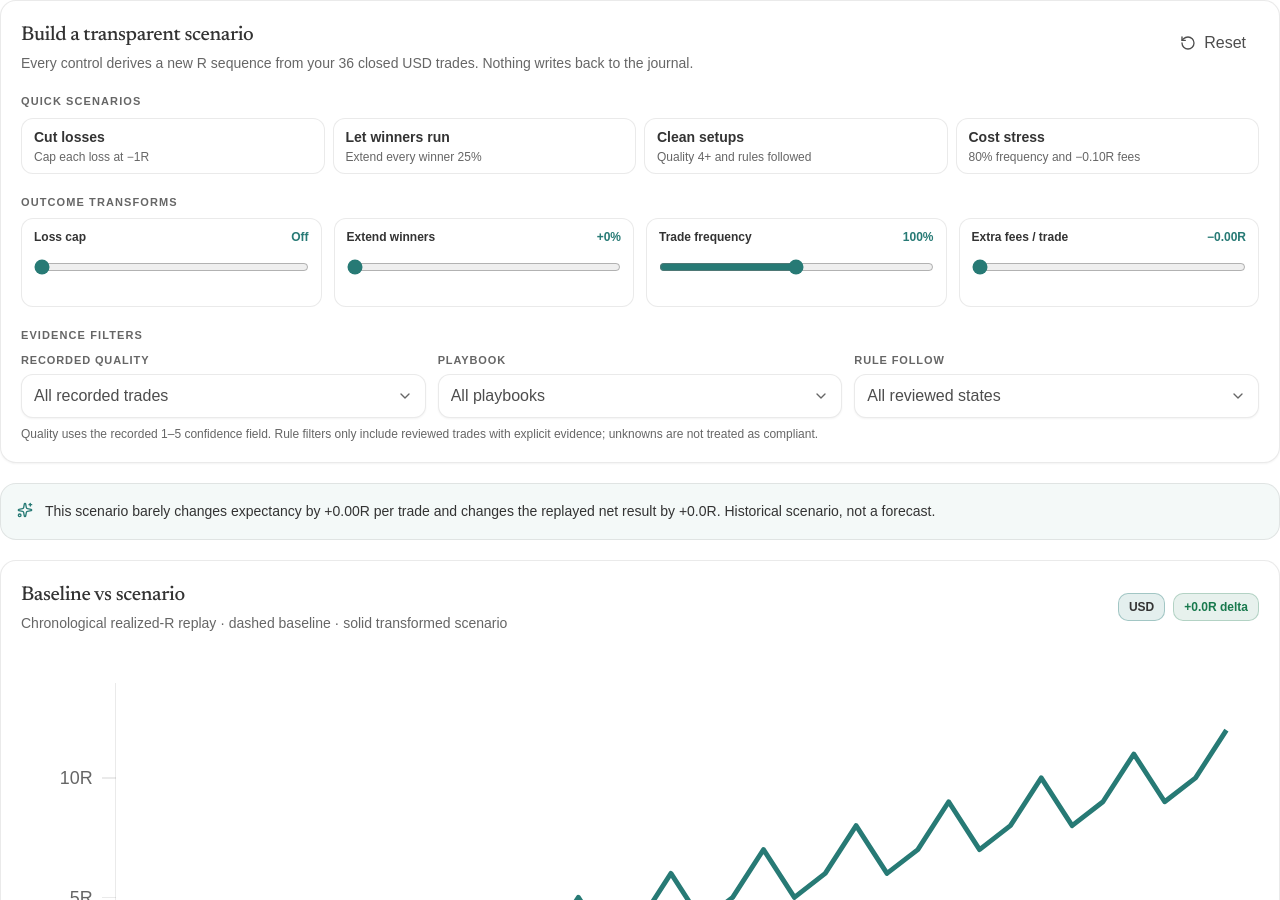
it: WhatIfWorkspace › announces when evidence filters leave too little data
Click the button "Clean setups Quality 4+ and rules followed" at (701, 136), box top-left (644, 118), bottom-right (948, 174)
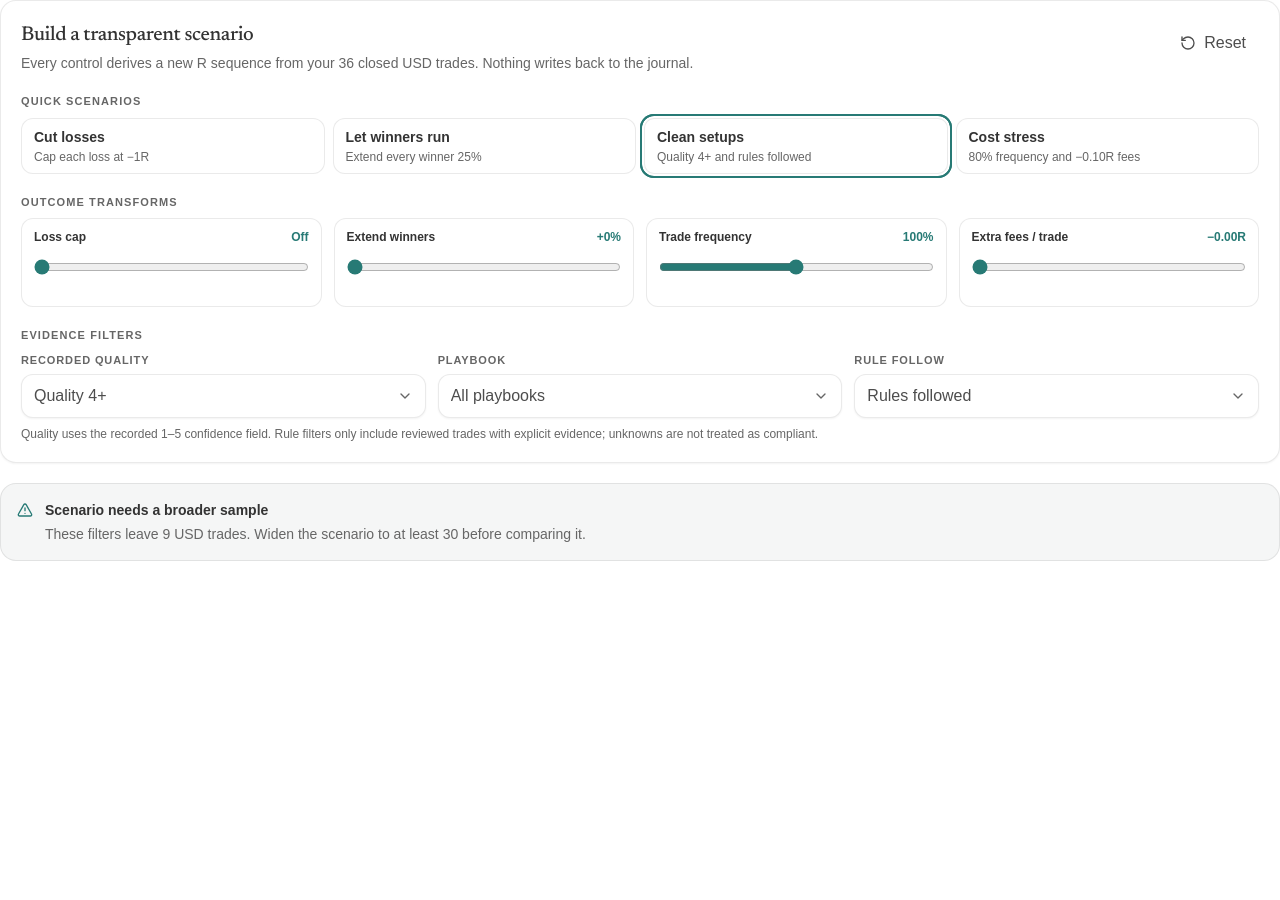
Expected: the text "Widen the scenario to at least 30" is shown, top-left (45, 526), bottom-right (586, 542)
